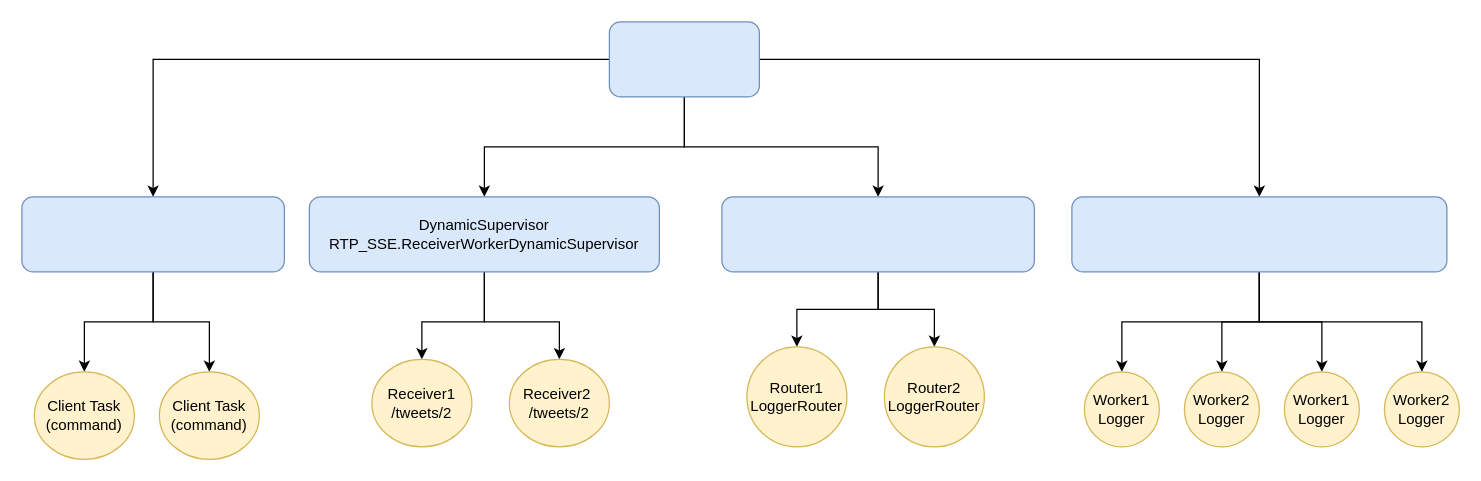
This 1481x481 diagram has some shape labels left out. The shapes that lost their labels are listed below. From the top down, each one's centre as x and y in pixels, then its label:
pixel 683 59: Application RTP_SSE.Supervisor
pixel 152 234: TaskSupervisor RTP_SSE.Server.TaskSupervisor
pixel 877 234: DynamicSupervisor RTP_SSE.LoggerRouterDynamicSupervisor
pixel 1259 234: DynamicSupervisor RTP_SSE.LoggerWorkerDynamicSupervisor
